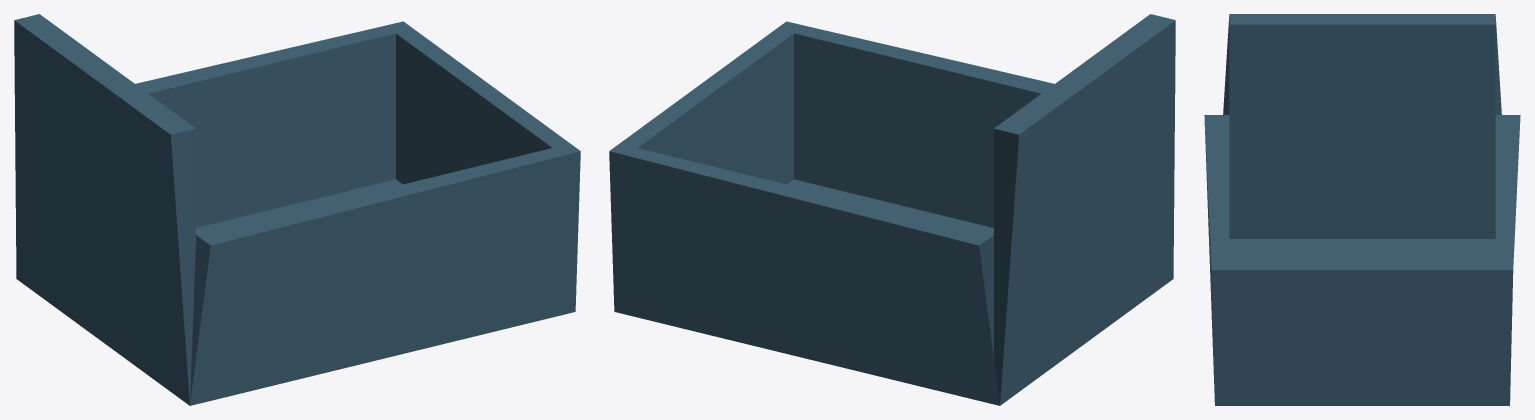
File: fuente2.fbx
3 renders of one model, left to right at view 1: azimuth 30°, elevation 25°; view 2: azimuth 150°, elevation 25°; view 3: azimuth 270°, elevation 25°, orthographic. The views are drawn at different scales.
Visible parts, largest first — view 1: Plane; view 2: Plane; view 3: Plane.
Part boxes in pixels (x1=…): Plane: x1=14, y1=14, x2=580, y2=405; Plane: x1=609, y1=14, x2=1175, y2=405; Plane: x1=1204, y1=14, x2=1520, y2=405.
Size of the model in its own units: 426 by 272 by 343.
